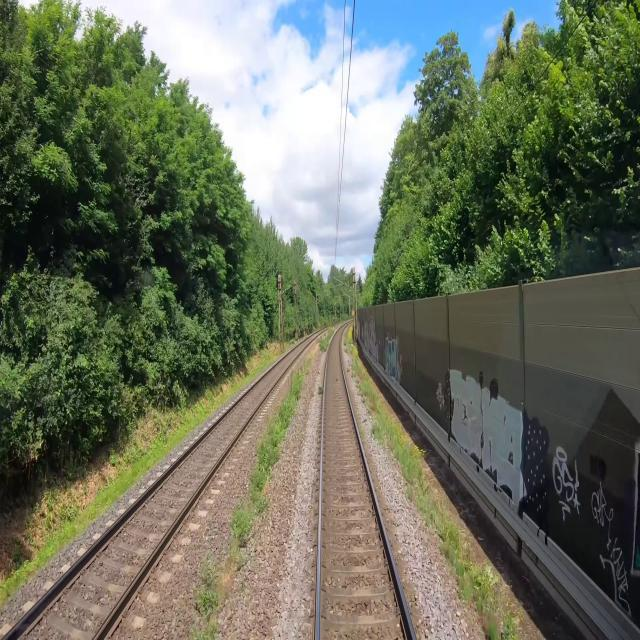Plant: (188, 357, 314, 639), (316, 328, 336, 354)
